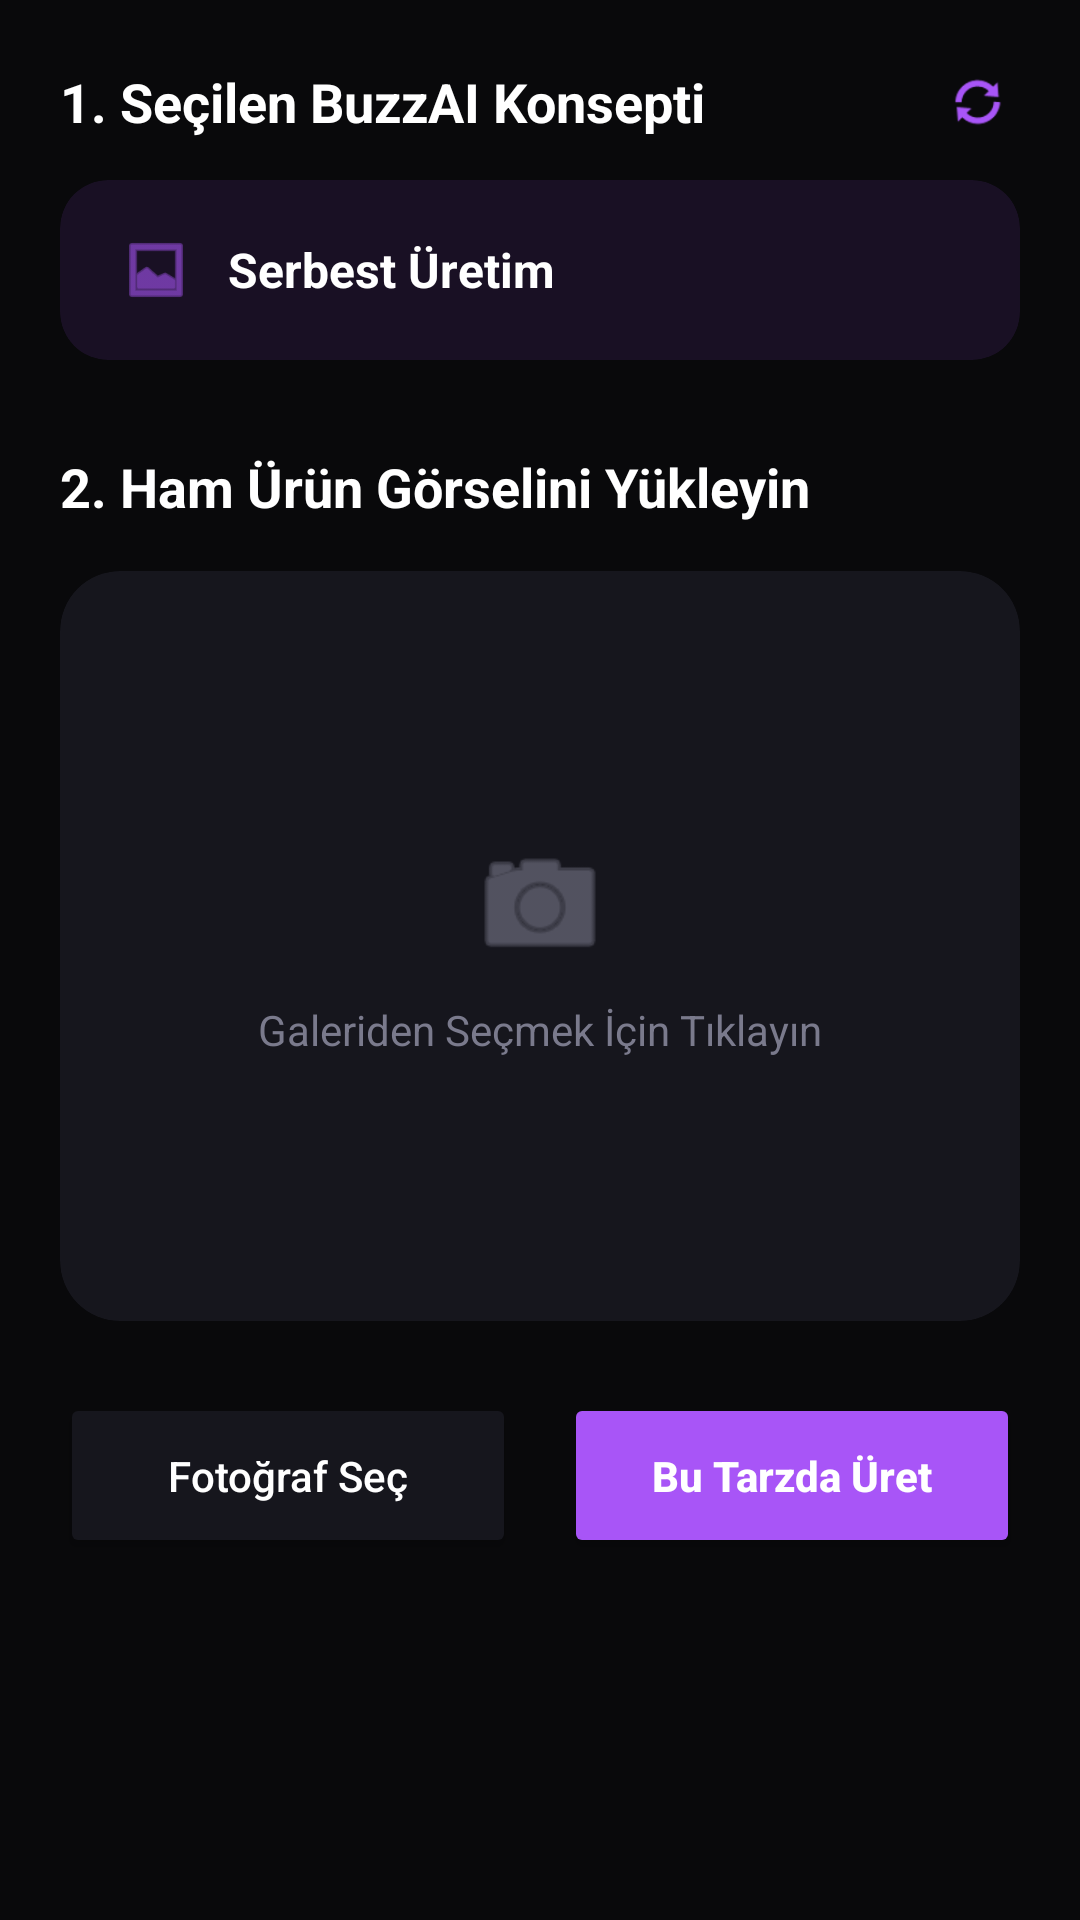

Icons on this 1080×1920 Android screen, each with the point to tap as point (x, y):
camera: point (540, 902)
gallery: point (156, 270)
popup sync: point (978, 102)
